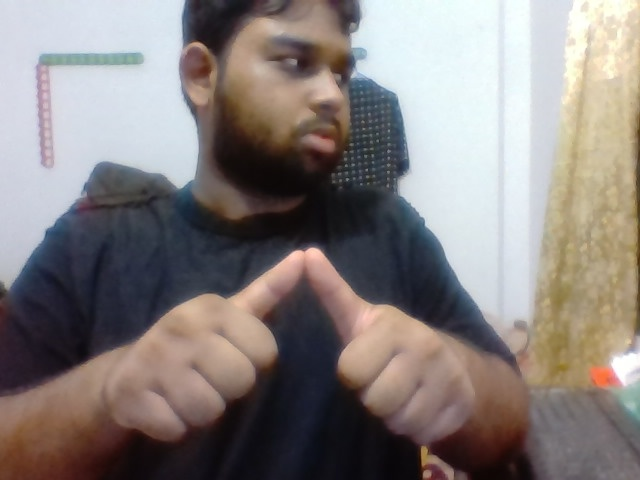A: (105, 232, 480, 470)
